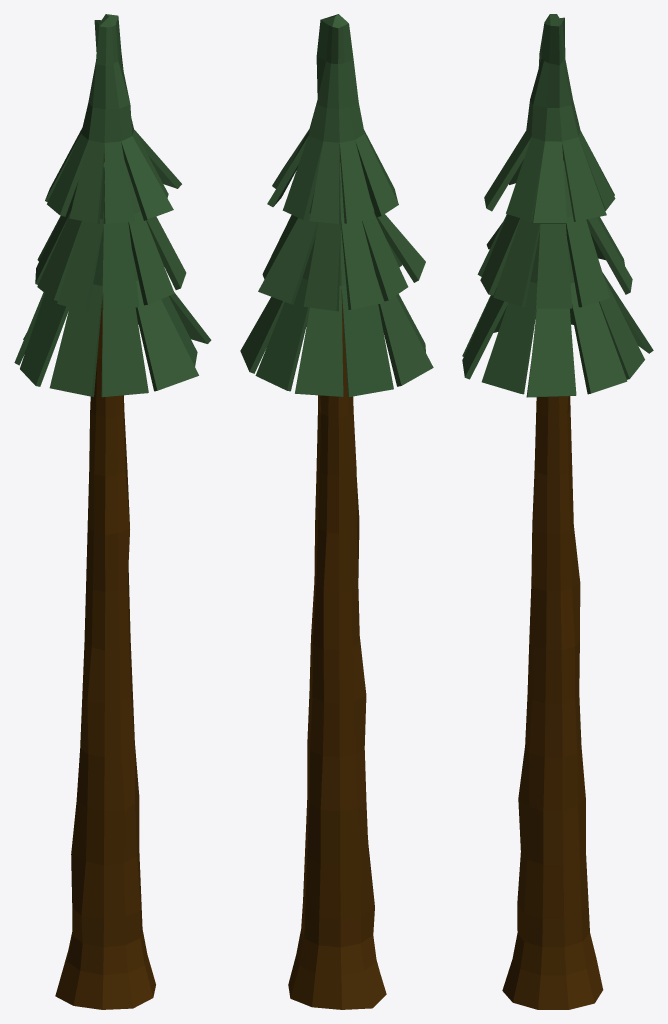
The picture shows the model from 3 angles, left to right: view 1: azimuth 30°, elevation 25°; view 2: azimuth 150°, elevation 25°; view 3: azimuth 270°, elevation 25°; orthographic projection.
Visible parts, largest first — view 1: Цилиндр.012; view 2: Цилиндр.012; view 3: Цилиндр.012.
Part boxes in pixels (box(x1,y1,x2,y2)): Цилиндр.012: box(14, 14, 211, 1009); Цилиндр.012: box(240, 14, 433, 1009); Цилиндр.012: box(462, 14, 653, 1009).
Size of the model in its own units: 6404 by 34054 by 6045.
